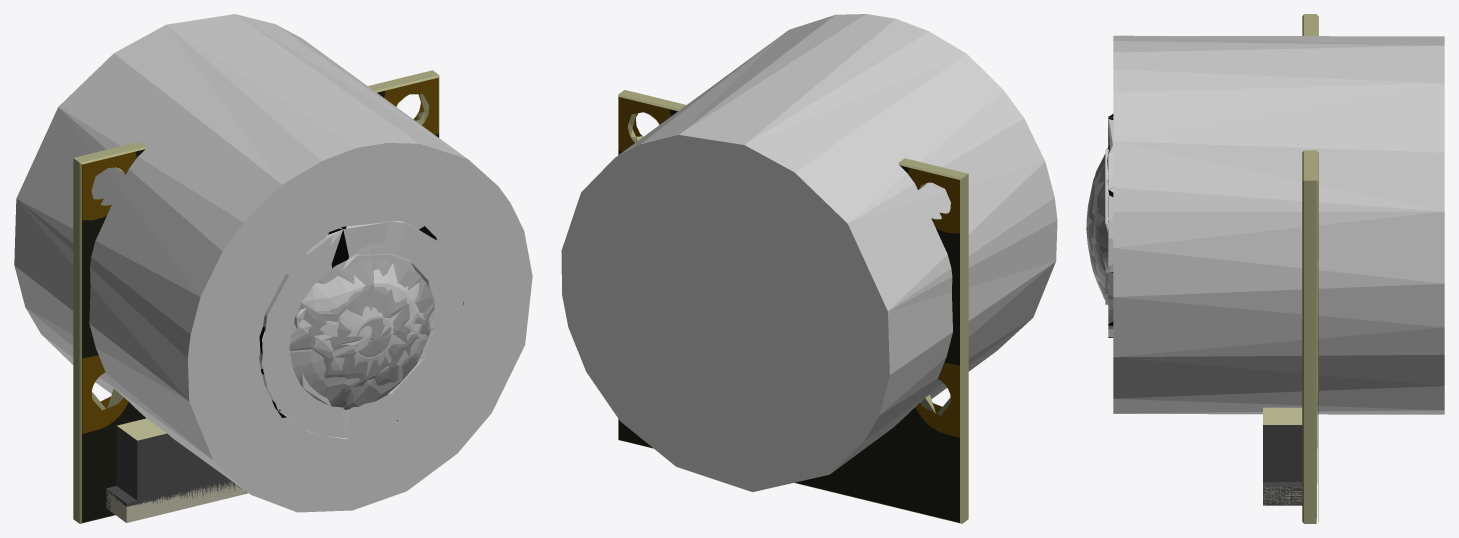
The model's file is pi-camera.glb.
3 renders of one model, left to right at view 1: azimuth 30°, elevation 25°; view 2: azimuth 150°, elevation 25°; view 3: azimuth 270°, elevation 25°, orthographic. The views are drawn at different scales.
Visible parts, largest first — view 1: part4, part5, part7, part0, part2, part1, part6, part3, part8; view 2: part4, part2, part0, part1; view 3: part4, part0, part7, part5, part1, part8, part6.
Part boxes in pixels (box(x1,y1,x2,y2)): part4: box(14, 14, 532, 512); part5: box(289, 242, 434, 409); part7: box(106, 426, 246, 510); part0: box(73, 70, 439, 523); part2: box(82, 90, 438, 522); part1: box(82, 77, 438, 522); part6: box(106, 481, 247, 522); part3: box(259, 226, 463, 420); part8: box(117, 418, 166, 440); part4: box(561, 14, 1057, 492); part2: box(618, 109, 959, 522); part0: box(618, 90, 968, 523); part1: box(618, 97, 959, 437); part4: box(1086, 35, 1444, 414); part0: box(1302, 14, 1318, 523); part7: box(1263, 425, 1302, 505); part5: box(1086, 147, 1110, 302); part1: box(1302, 16, 1318, 521); part8: box(1263, 407, 1302, 424); part6: box(1263, 487, 1302, 505).
Bounding box in the file's own units: 0.025 × 0.027 × 0.0227.
